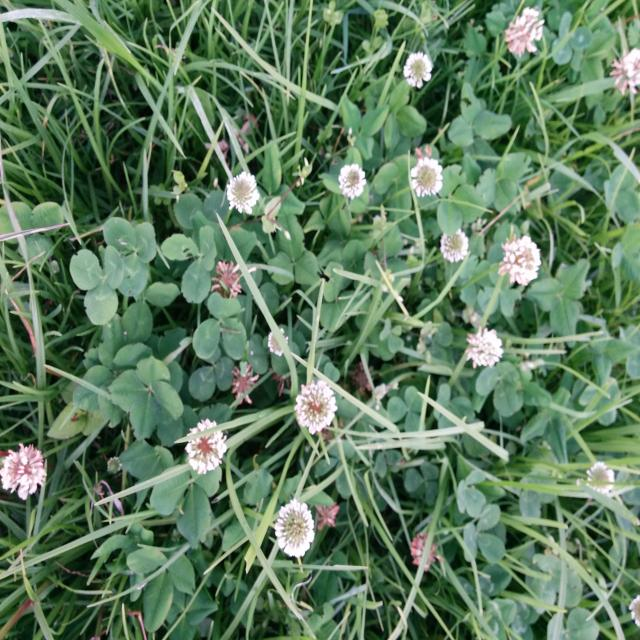Four Leaf Clover: (108, 357, 182, 440)
